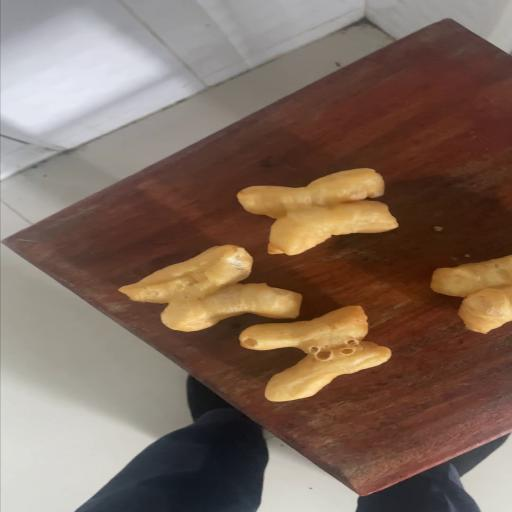street_golden_defect: (239, 306, 391, 400)
street_golden_good: (118, 245, 302, 331), (237, 169, 397, 254), (431, 255, 512, 331)
